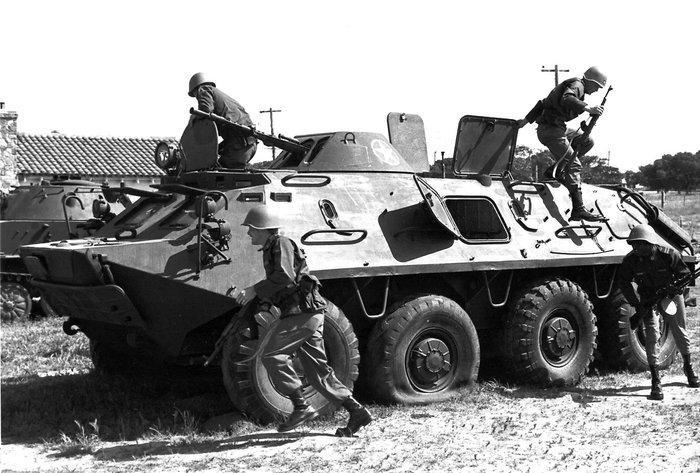MIL_IFV: (23, 116, 699, 431)
